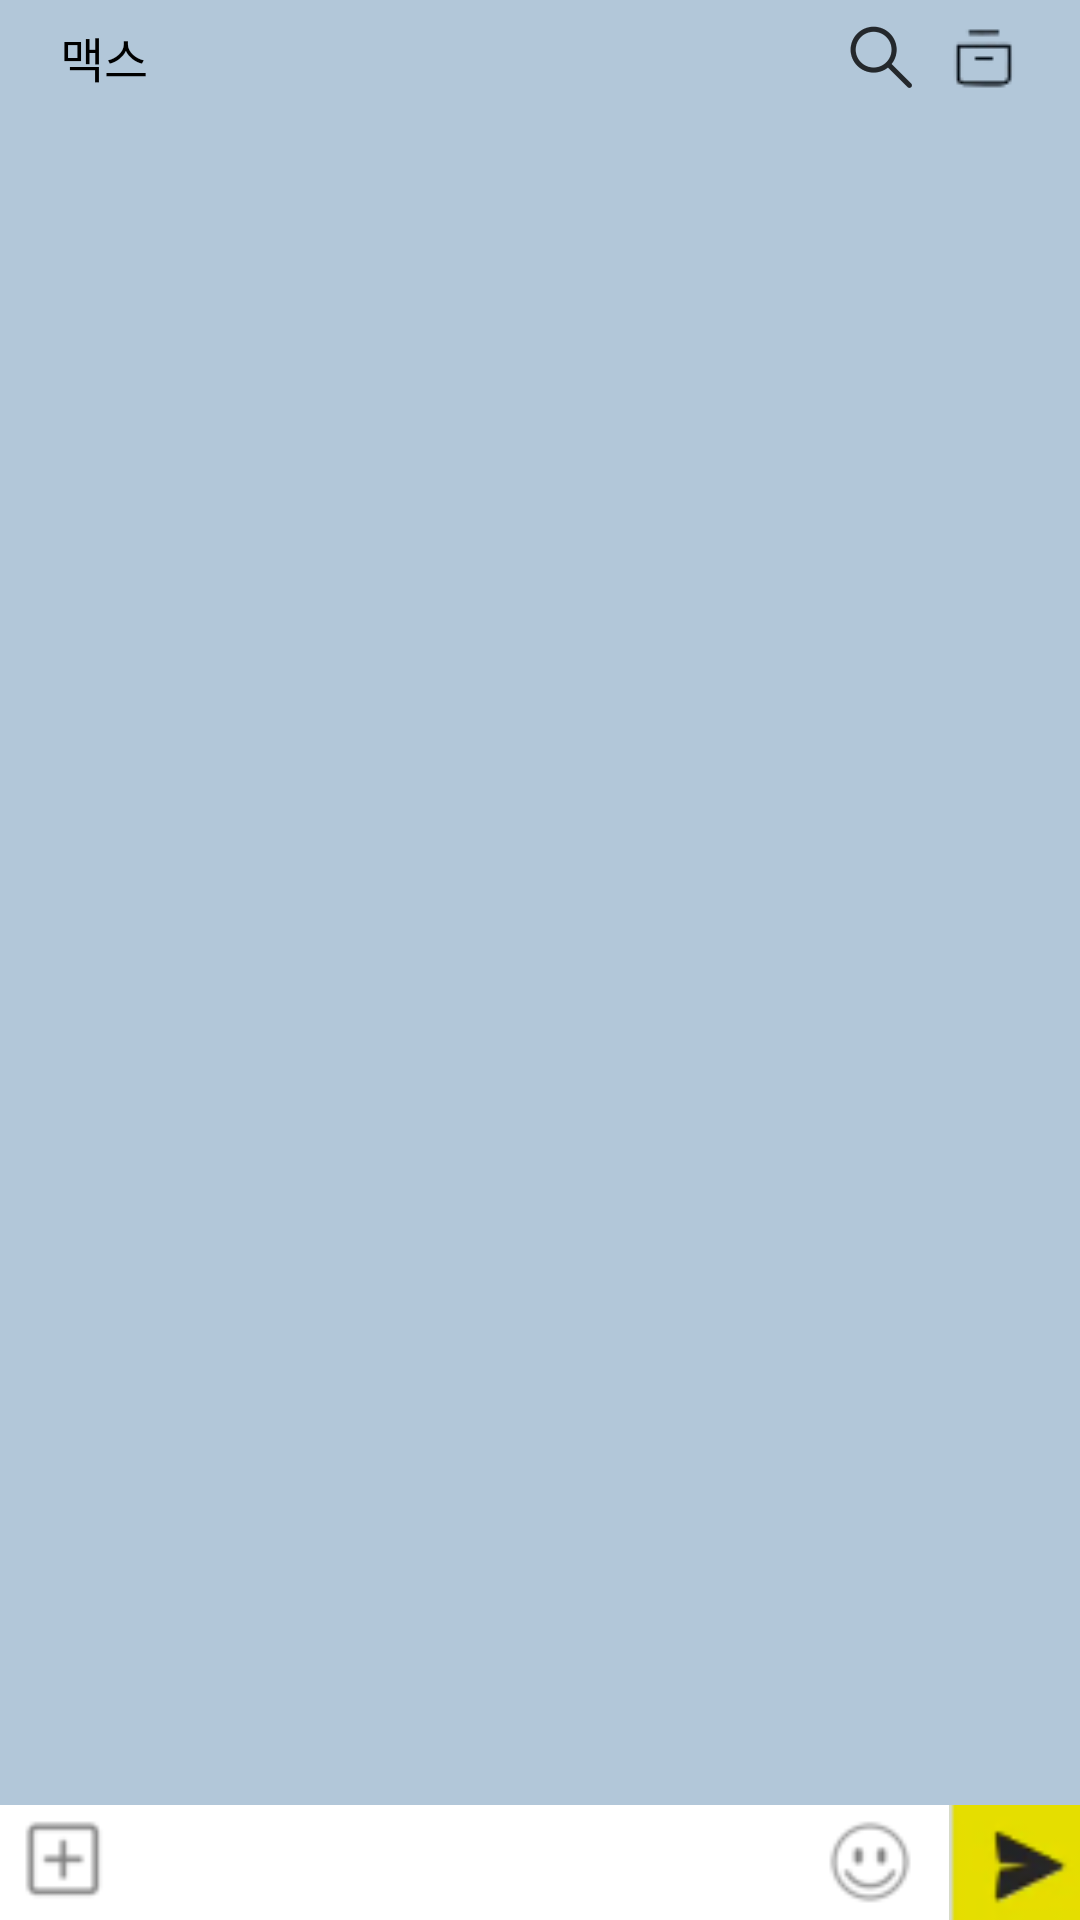

Icon bounding boxes for this 1080 × 1920 phone screenshot, format (x1, y1, x2, y2):
search costum: (850, 26, 912, 88)
